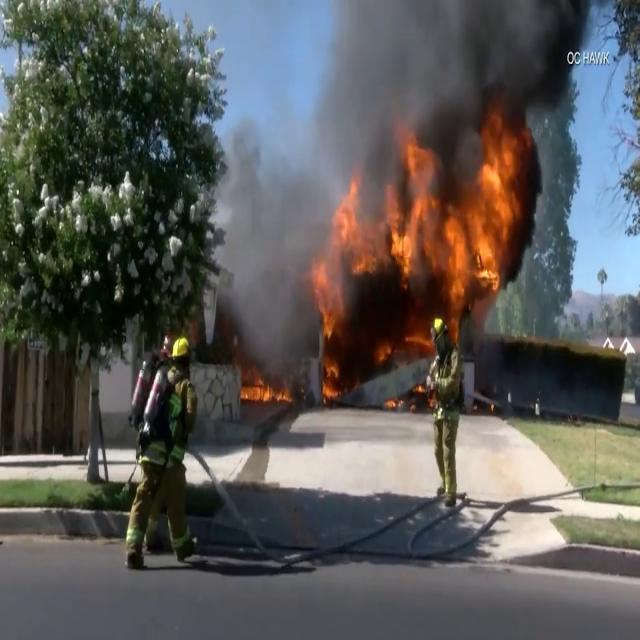Fire: (303, 120, 528, 396)
Smoke: (304, 0, 596, 186)
